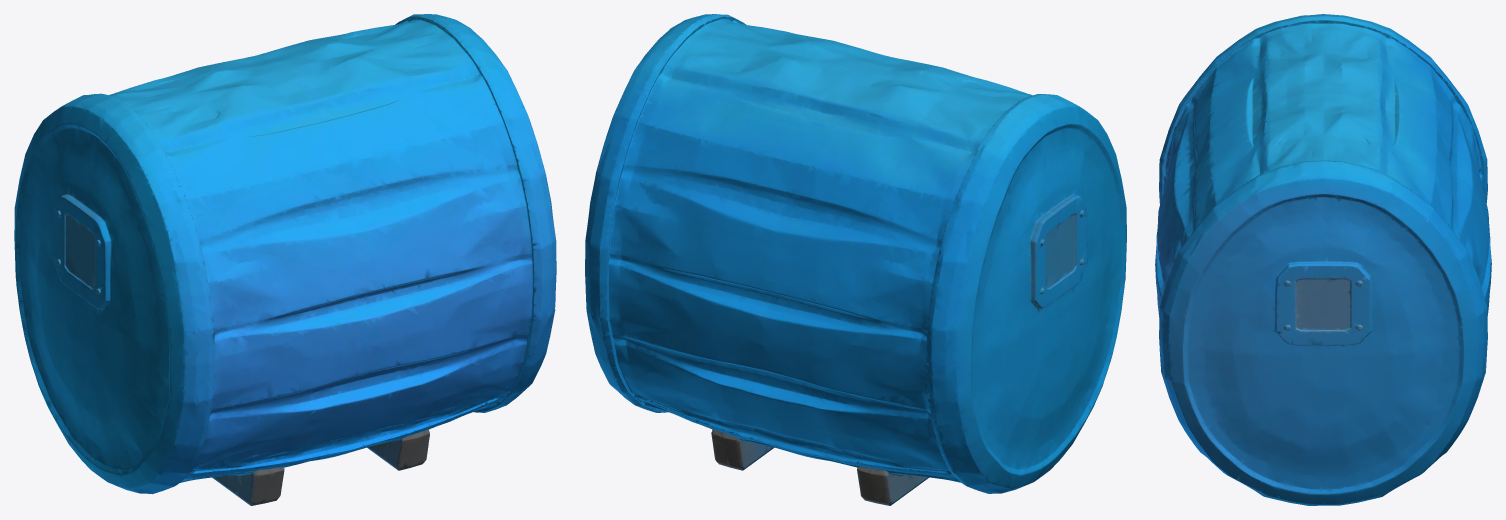
The model's file is Meshy_AI_A_bright_blue_industr_0823171533_texture-optimized.glb.
The picture shows the model from 3 angles, left to right: view 1: azimuth 30°, elevation 25°; view 2: azimuth 150°, elevation 25°; view 3: azimuth 270°, elevation 25°; orthographic projection. The views are drawn at different scales.
Visible parts, largest first — view 1: mesh_node; view 2: mesh_node; view 3: mesh_node.
Boxes of the visible parts, bbox=[...] form: mesh_node: bbox=[14, 14, 556, 505]; mesh_node: bbox=[585, 14, 1126, 505]; mesh_node: bbox=[1155, 14, 1491, 505].
Size of the model in its own units: 1.9 by 1.67 by 1.47.
1 material, 1 textured.
